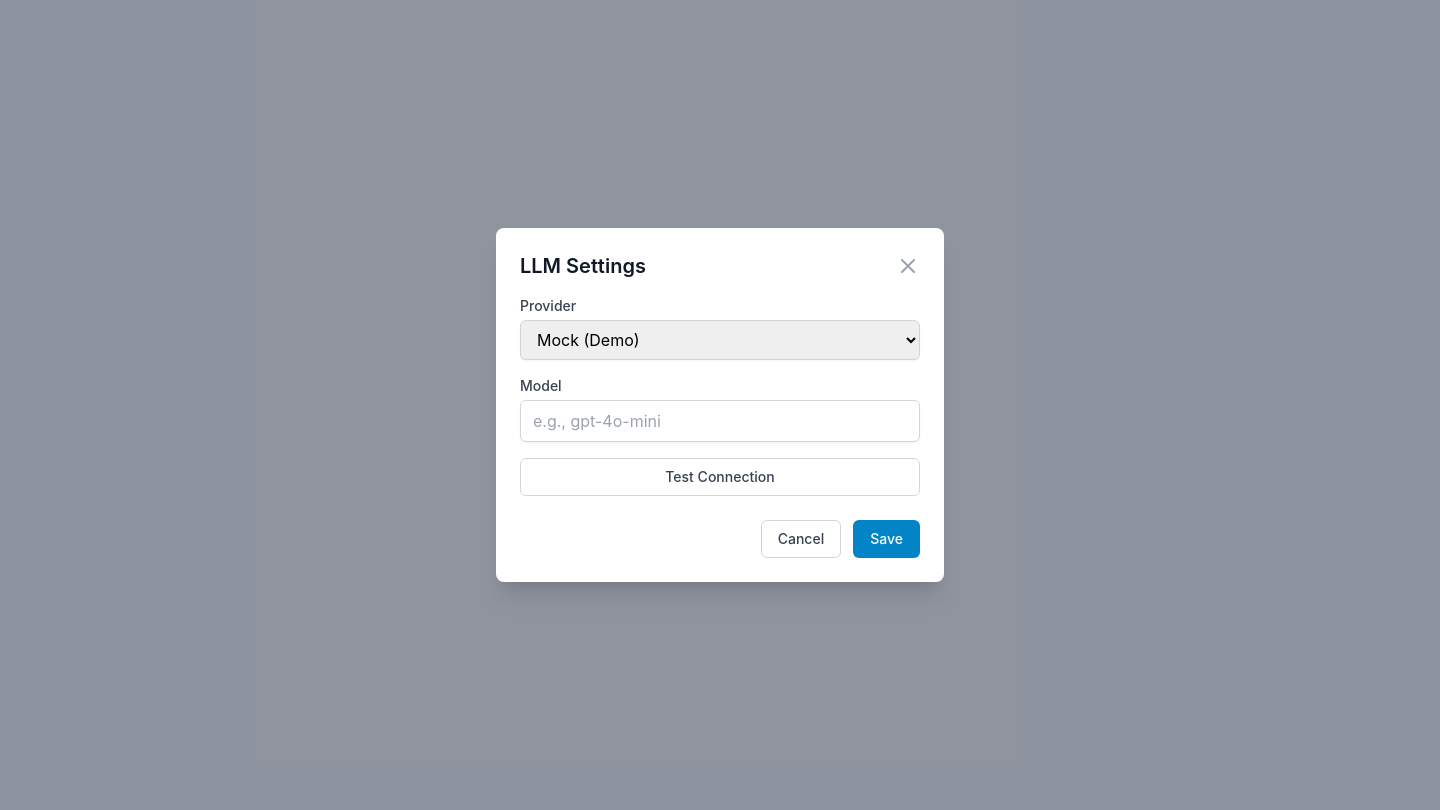
it: LLMSettingsDialog › should show error state when test connection fails
The image size is (1440, 810).
Click the button with test id "test-connection-button".
click(720, 477)  # box [520,458,920,496]
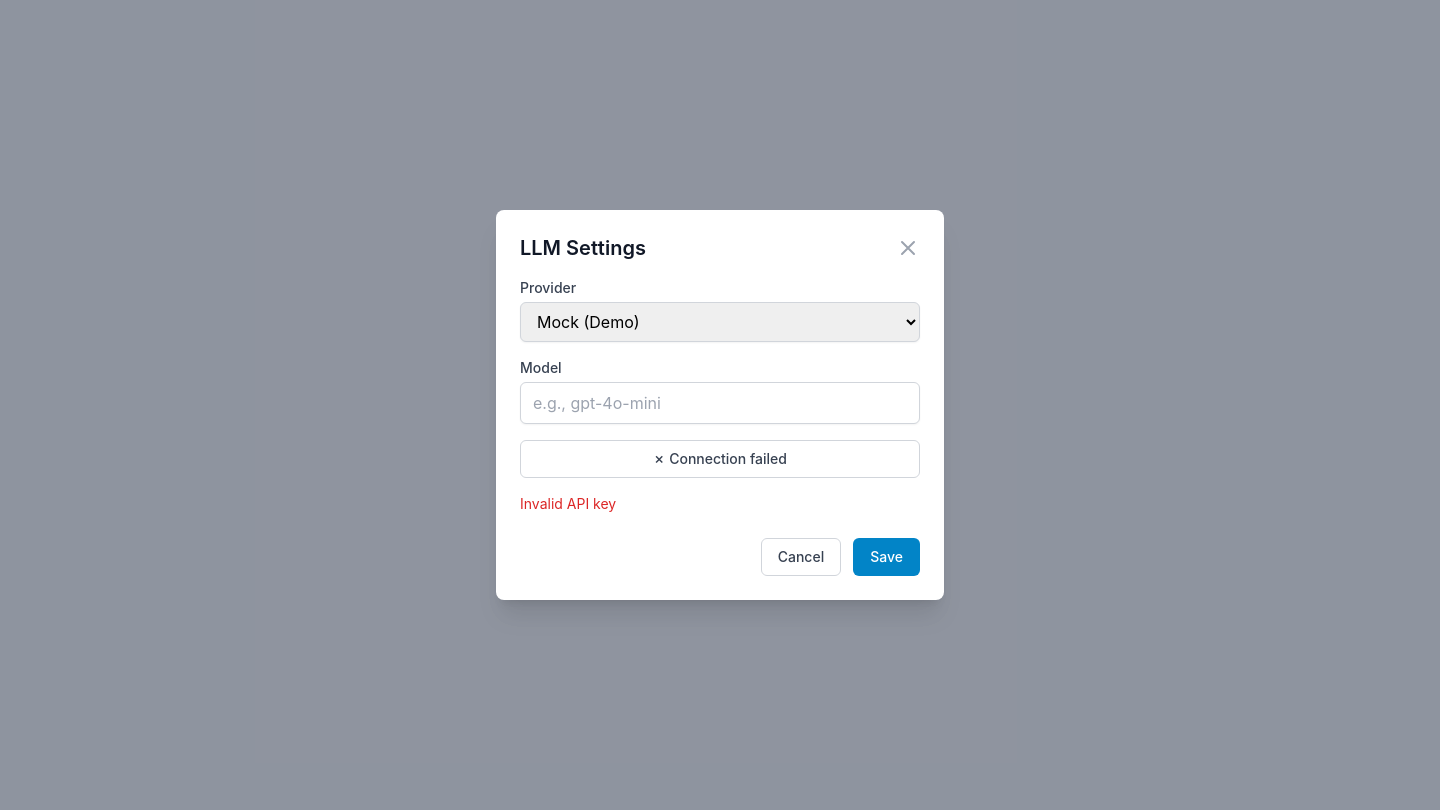
expect the button "✗ Connection failed" is shown: met, box [520,440,920,478]
expect the text with test id "test-error" reads "Invalid API key": met, box [520,495,616,512]
